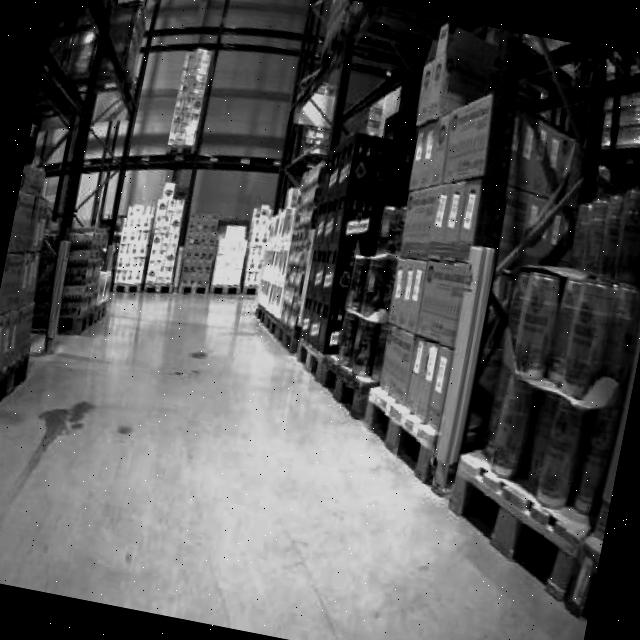ground: (0, 242, 636, 640)
pallet: (186, 0, 640, 640), (430, 162, 640, 624), (0, 155, 133, 588), (433, 443, 604, 607), (0, 155, 68, 515), (107, 179, 270, 317), (35, 217, 123, 348)
